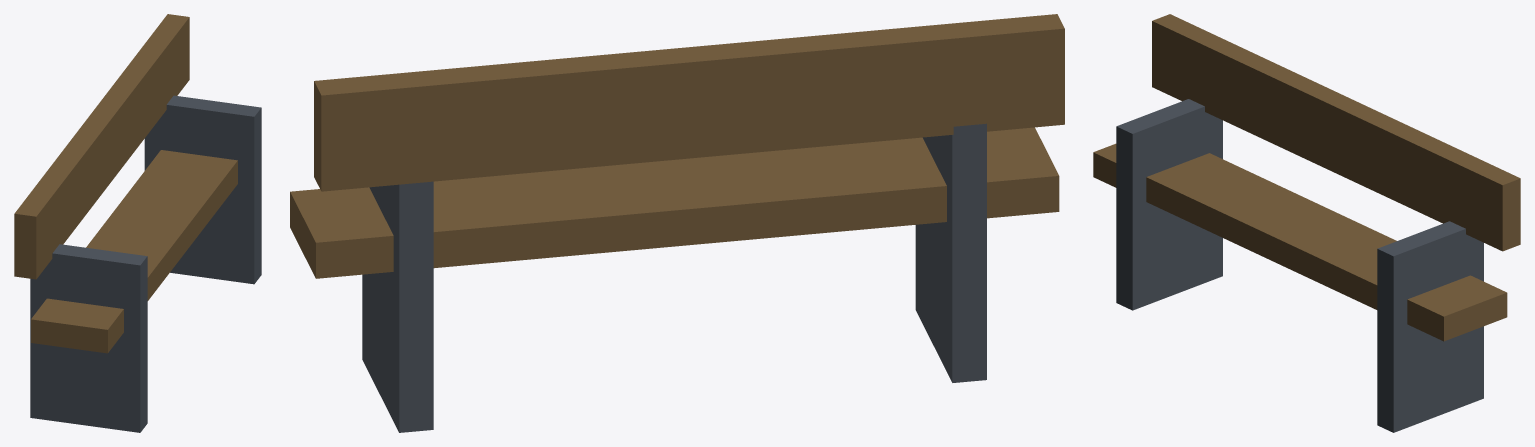
The model's file is cell--585_90.glb.
3 views of the same model, side by side, from view 1: azimuth 30°, elevation 25°; view 2: azimuth 150°, elevation 25°; view 3: azimuth 270°, elevation 25° (orthographic). The views are drawn at different scales.
Visible parts, largest first — view 1: cell--585_90; view 2: cell--585_90; view 3: cell--585_90.
Boxes of the visible parts, bbox=[...] form: cell--585_90: bbox=[14, 14, 261, 432]; cell--585_90: bbox=[290, 14, 1064, 432]; cell--585_90: bbox=[1093, 14, 1520, 432].
Bounding box in the file's own units: 0.7526 × 0.43 × 0.7021.
